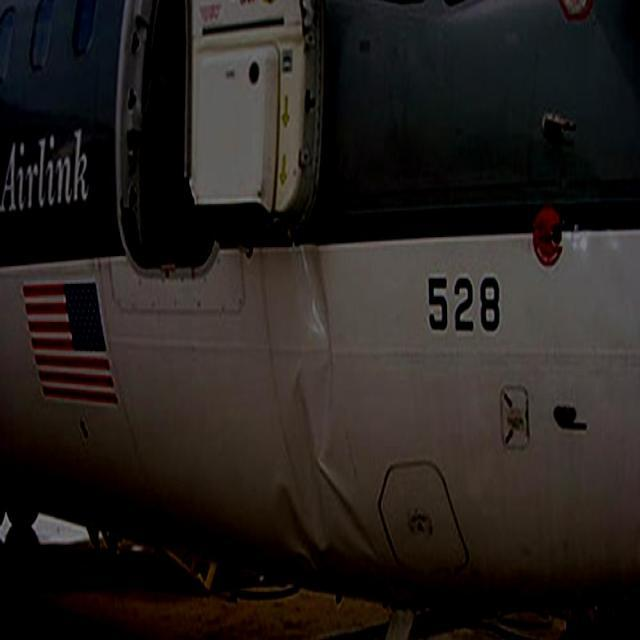dent: (270, 244, 373, 572)
